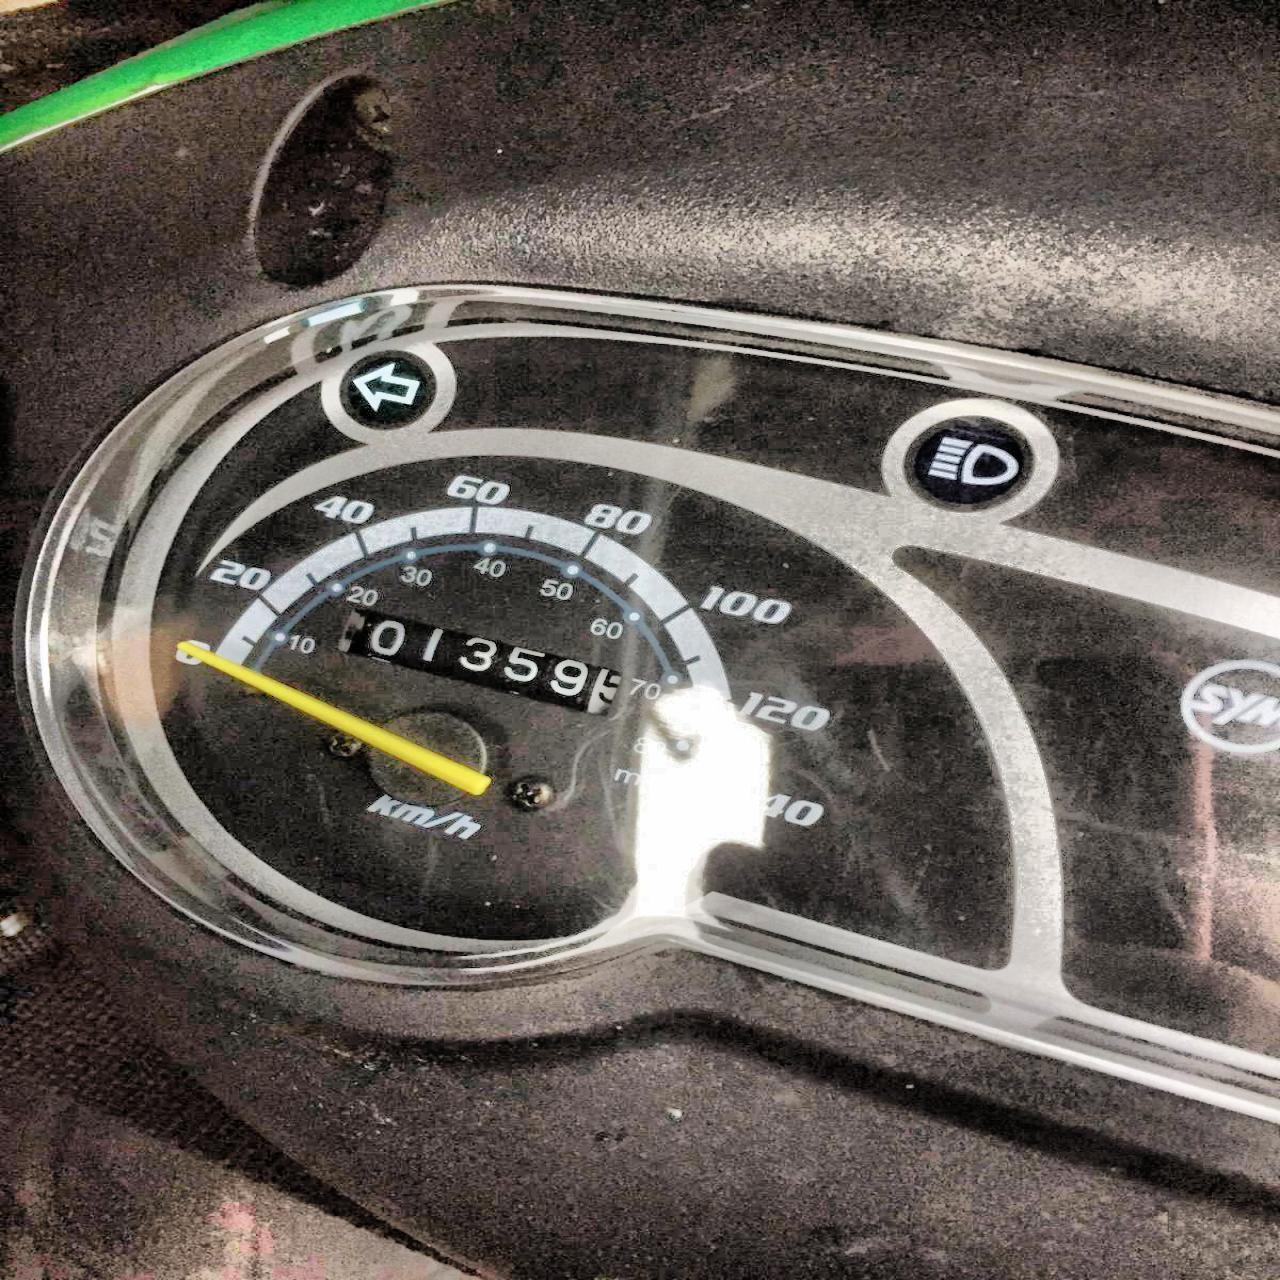0: (368, 618, 406, 656), (606, 620, 622, 639)
1: (420, 625, 444, 662)
3: (458, 634, 499, 672)
5: (502, 644, 544, 683), (594, 666, 622, 704)
6: (588, 617, 607, 636)
9: (550, 658, 587, 696)
odometer: (332, 606, 628, 721)
